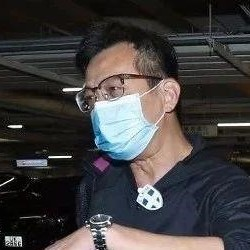mask: (80, 87, 165, 167)
